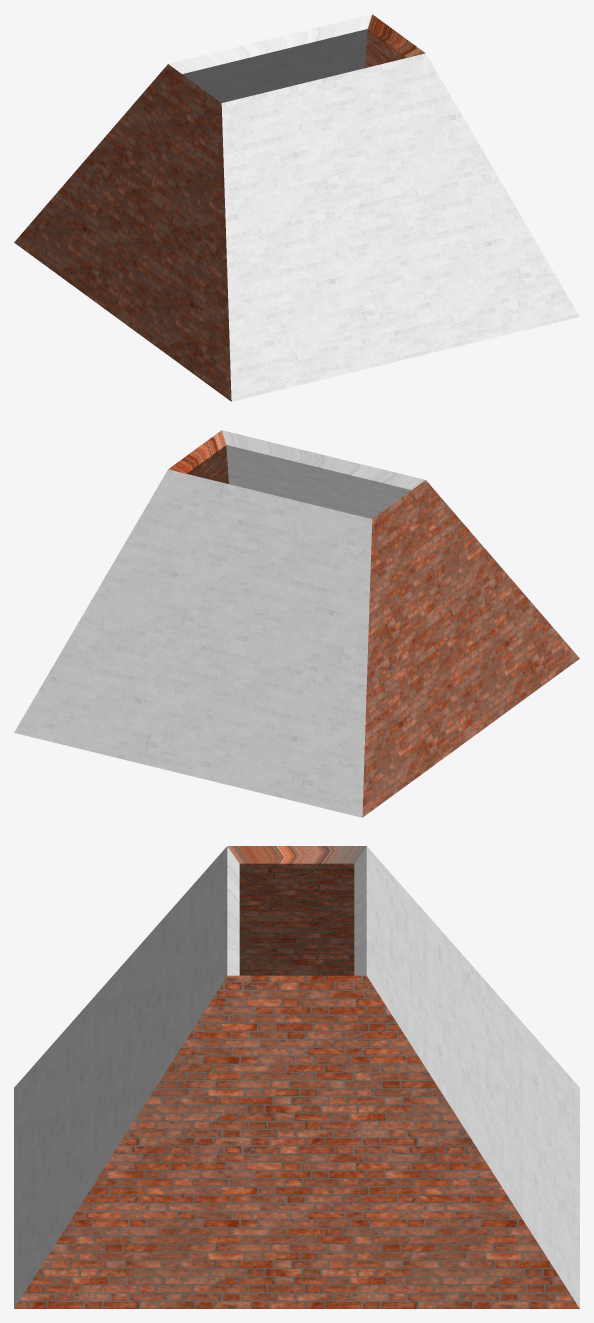
The model's file is wwwunderkammer_Regina_Asset_room.glb.
The picture shows the model from 3 angles, top to bottom: view 1: azimuth 30°, elevation 25°; view 2: azimuth 150°, elevation 25°; view 3: azimuth 270°, elevation 25°; orthographic projection. The views are drawn at different scales.
Visible parts, largest first — view 1: pCube2; view 2: pCube2; view 3: pCube2.
Part boxes in pixels (x1,y1,x2,y2): pCube2: (14, 14, 579, 401); pCube2: (14, 430, 579, 817); pCube2: (14, 846, 579, 1308).
Size of the model in its own units: 2.13 by 1.29 by 2.31.
3 materials, 3 textured.
